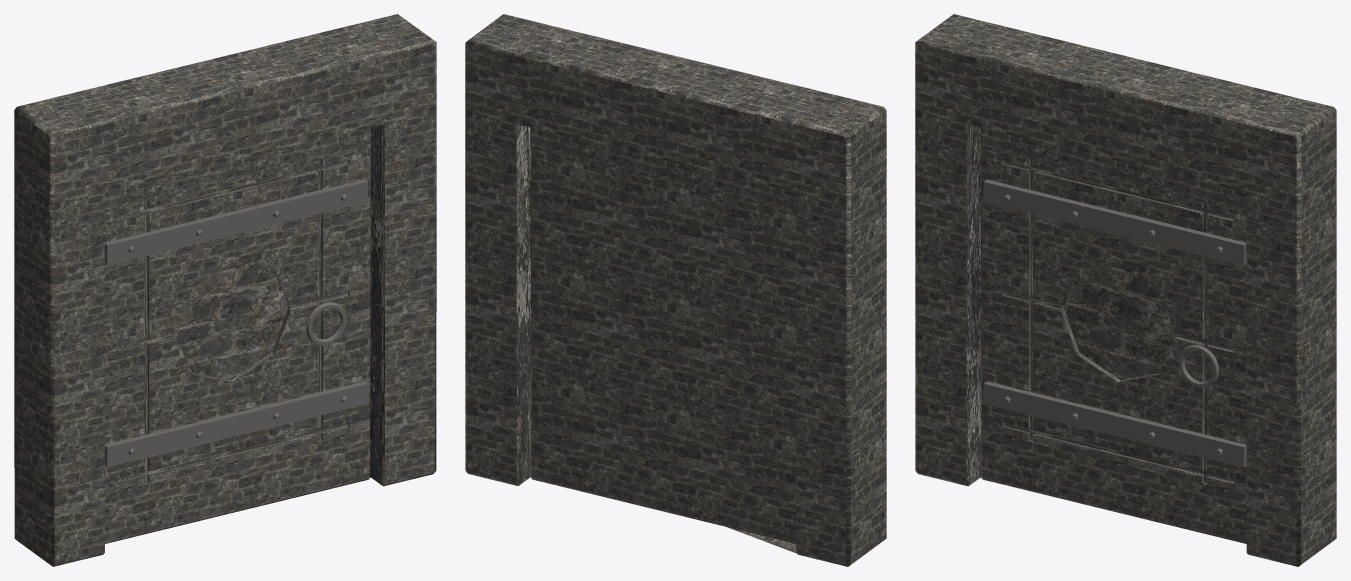
The model's file is dwarven-door-v01.glb.
The picture shows the model from 3 angles, left to right: view 1: azimuth 30°, elevation 25°; view 2: azimuth 150°, elevation 25°; view 3: azimuth 330°, elevation 25°; orthographic projection.
Parts seen in each view (by area): view 1: dwarven-door; view 2: dwarven-door; view 3: dwarven-door.
Part boxes in pixels (<box>): dwarven-door: <box>14,14,436,566</box>; dwarven-door: <box>465,14,886,566</box>; dwarven-door: <box>915,14,1336,566</box>.
Bounding box in the file's own units: 4 × 4.3 × 0.7019.
Materials: 2 (1 with a texture image).
